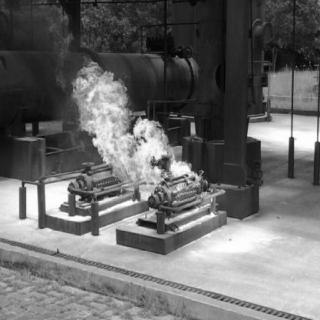Fire: (68, 57, 201, 185)
